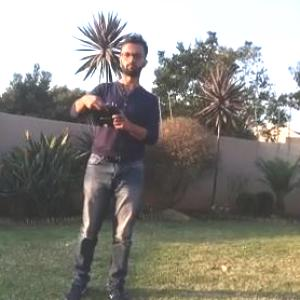follow: (56, 25, 163, 299)
